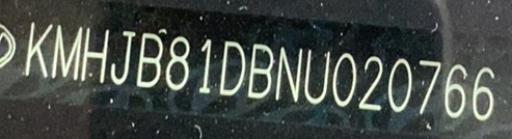letter: (78, 25, 112, 82), (272, 43, 306, 100), (412, 57, 444, 116), (217, 35, 247, 96), (468, 63, 498, 124), (106, 28, 138, 85), (133, 31, 165, 88), (162, 33, 194, 90), (383, 56, 415, 113), (244, 42, 274, 99), (440, 62, 470, 119), (54, 21, 82, 80), (304, 47, 332, 104), (331, 51, 359, 108), (356, 54, 384, 111), (25, 20, 49, 79), (194, 33, 218, 92)
